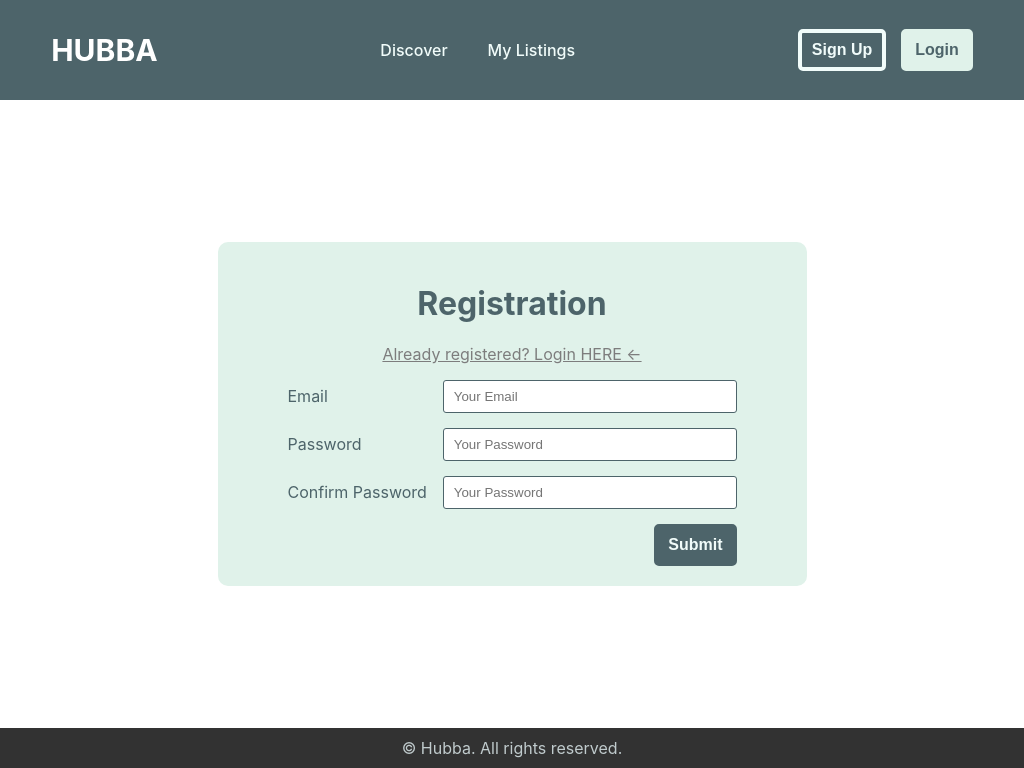
Test: registration failed cases › email existed
In the field with id "email": (590, 397) [443,380,737,413], type "hubba@gmail.com"
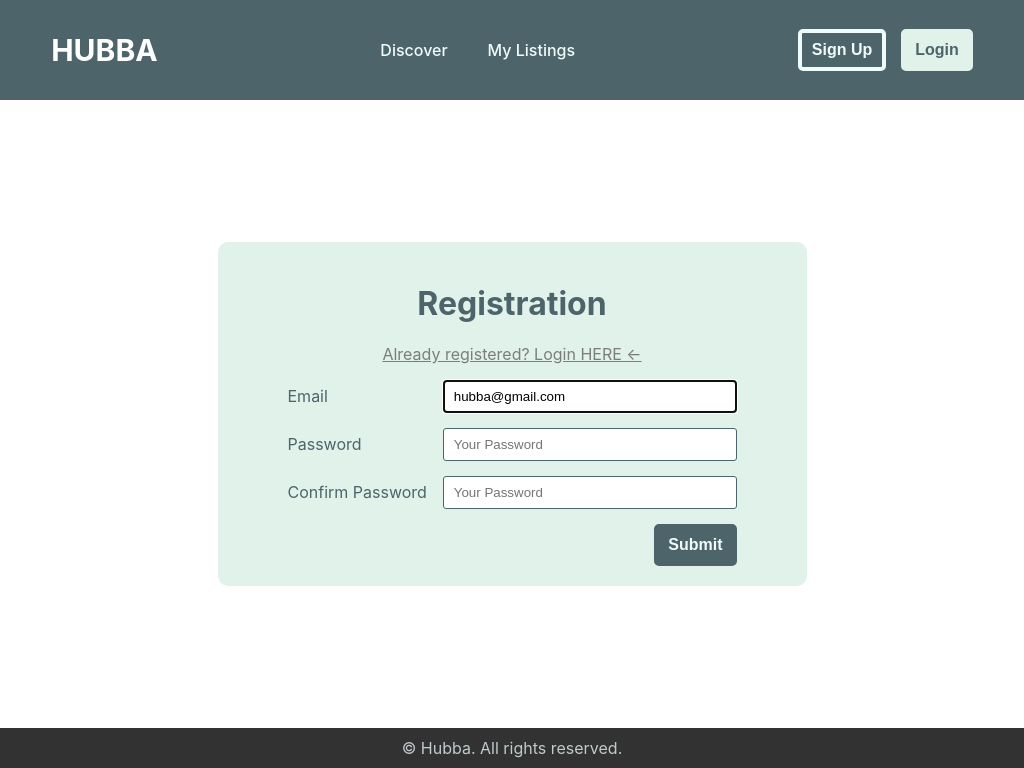
In the 1st password field with placeholder "Your Password": (590, 445) [443,428,737,461], type "12345678"
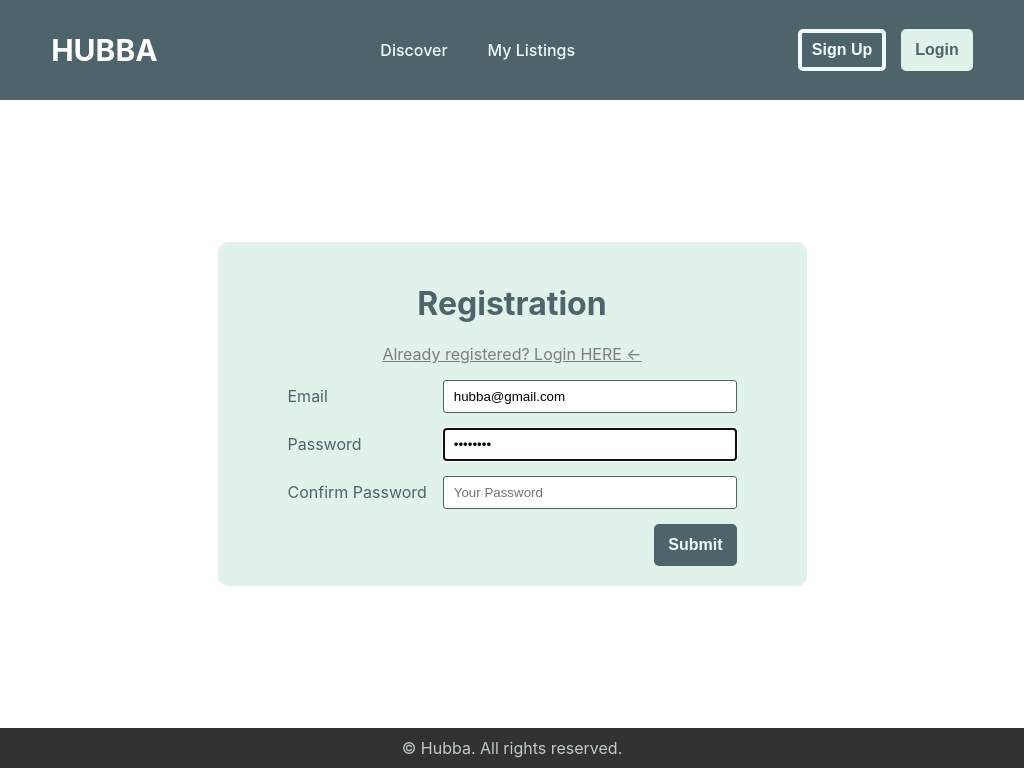
In the password field with id "confirm-password": (590, 493) [443,476,737,509], type "12345678"
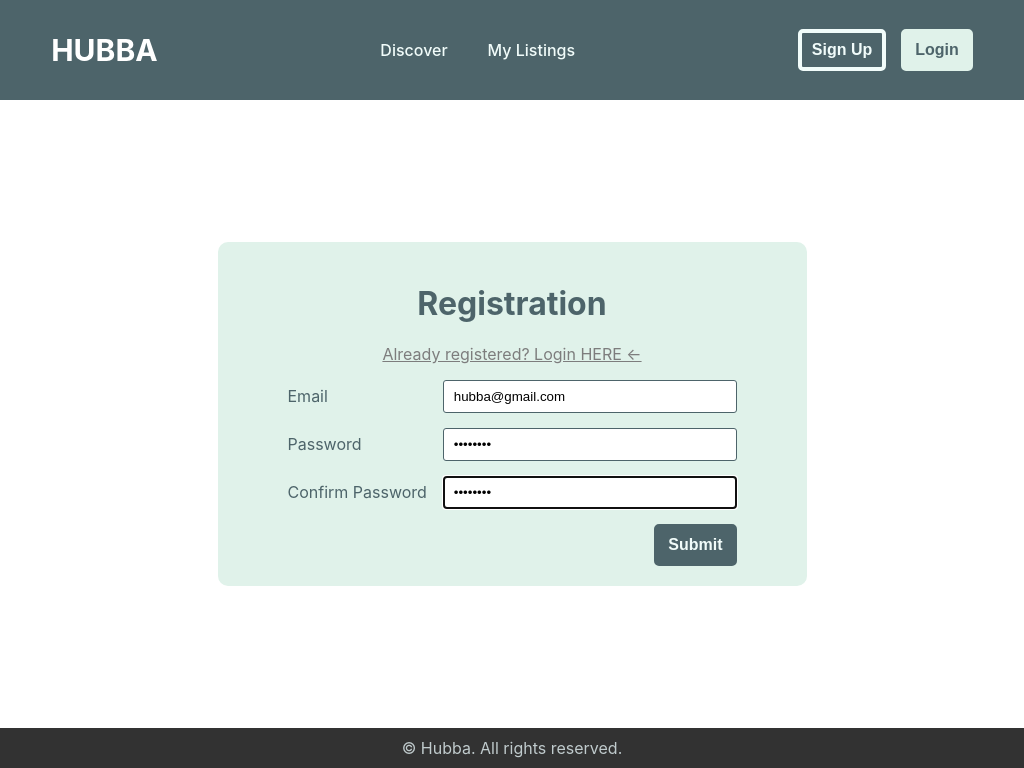
Click the button "Submit": (695, 545) [654,524,736,566]
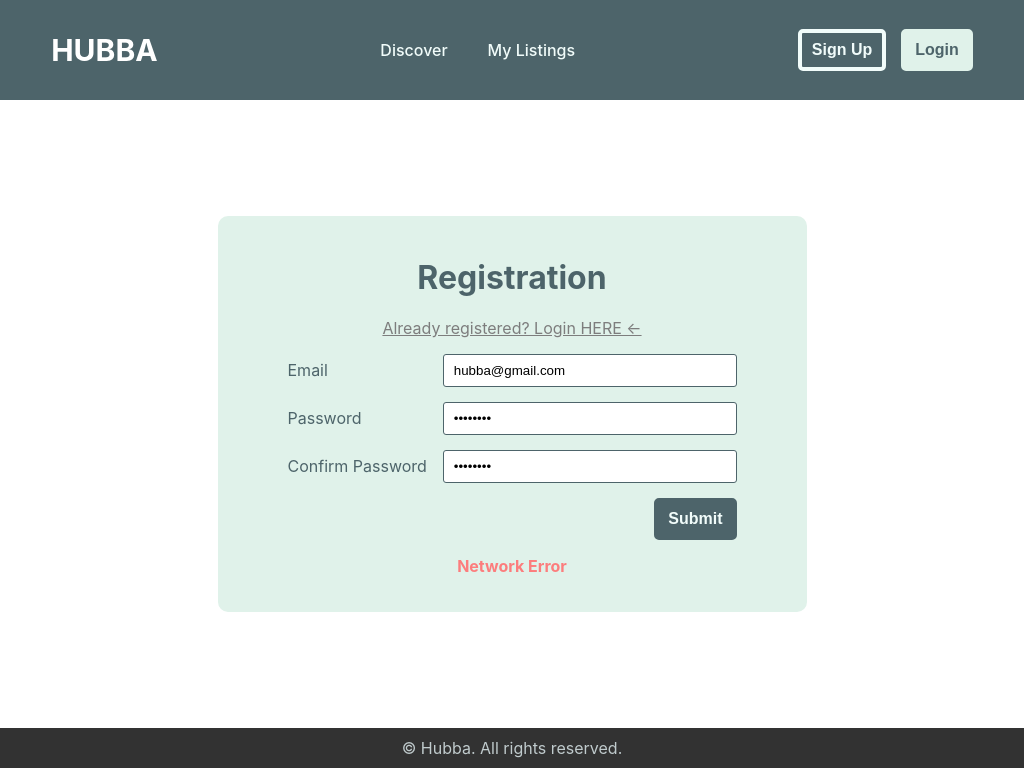
expect the text with class "error" is shown: met, box [457,556,567,576]
